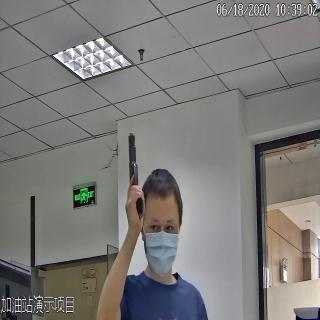gun: (120, 132, 146, 216)
